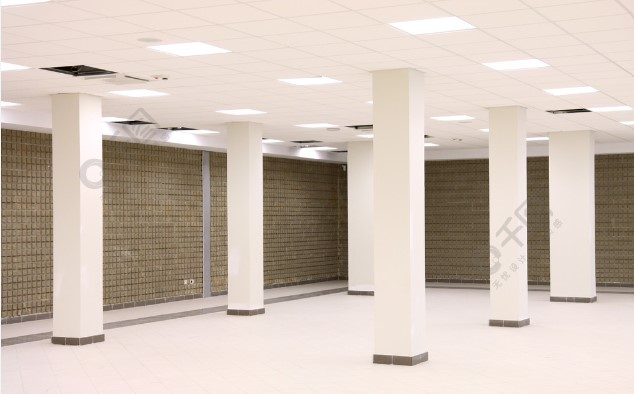pillar: (372, 72, 427, 358), (52, 93, 104, 337), (488, 106, 529, 320), (549, 133, 595, 297), (227, 121, 264, 315), (348, 142, 378, 290)
wall: (1, 129, 339, 325), (340, 153, 633, 288)
